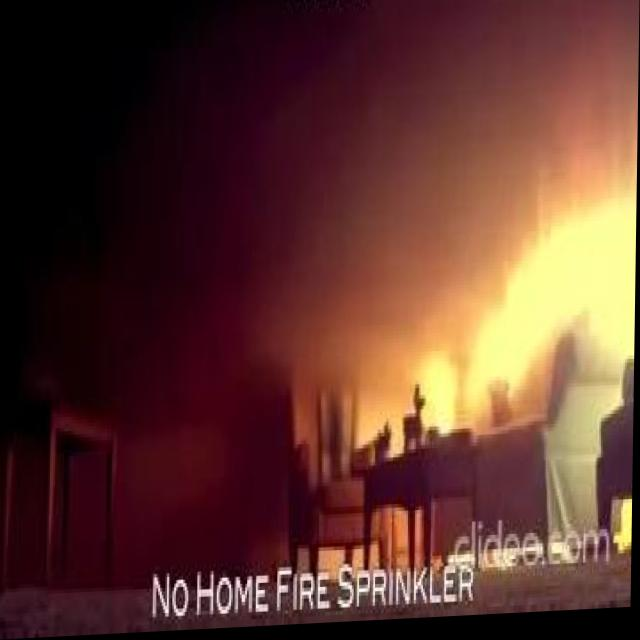fire: (469, 193, 637, 415), (420, 348, 462, 439)
